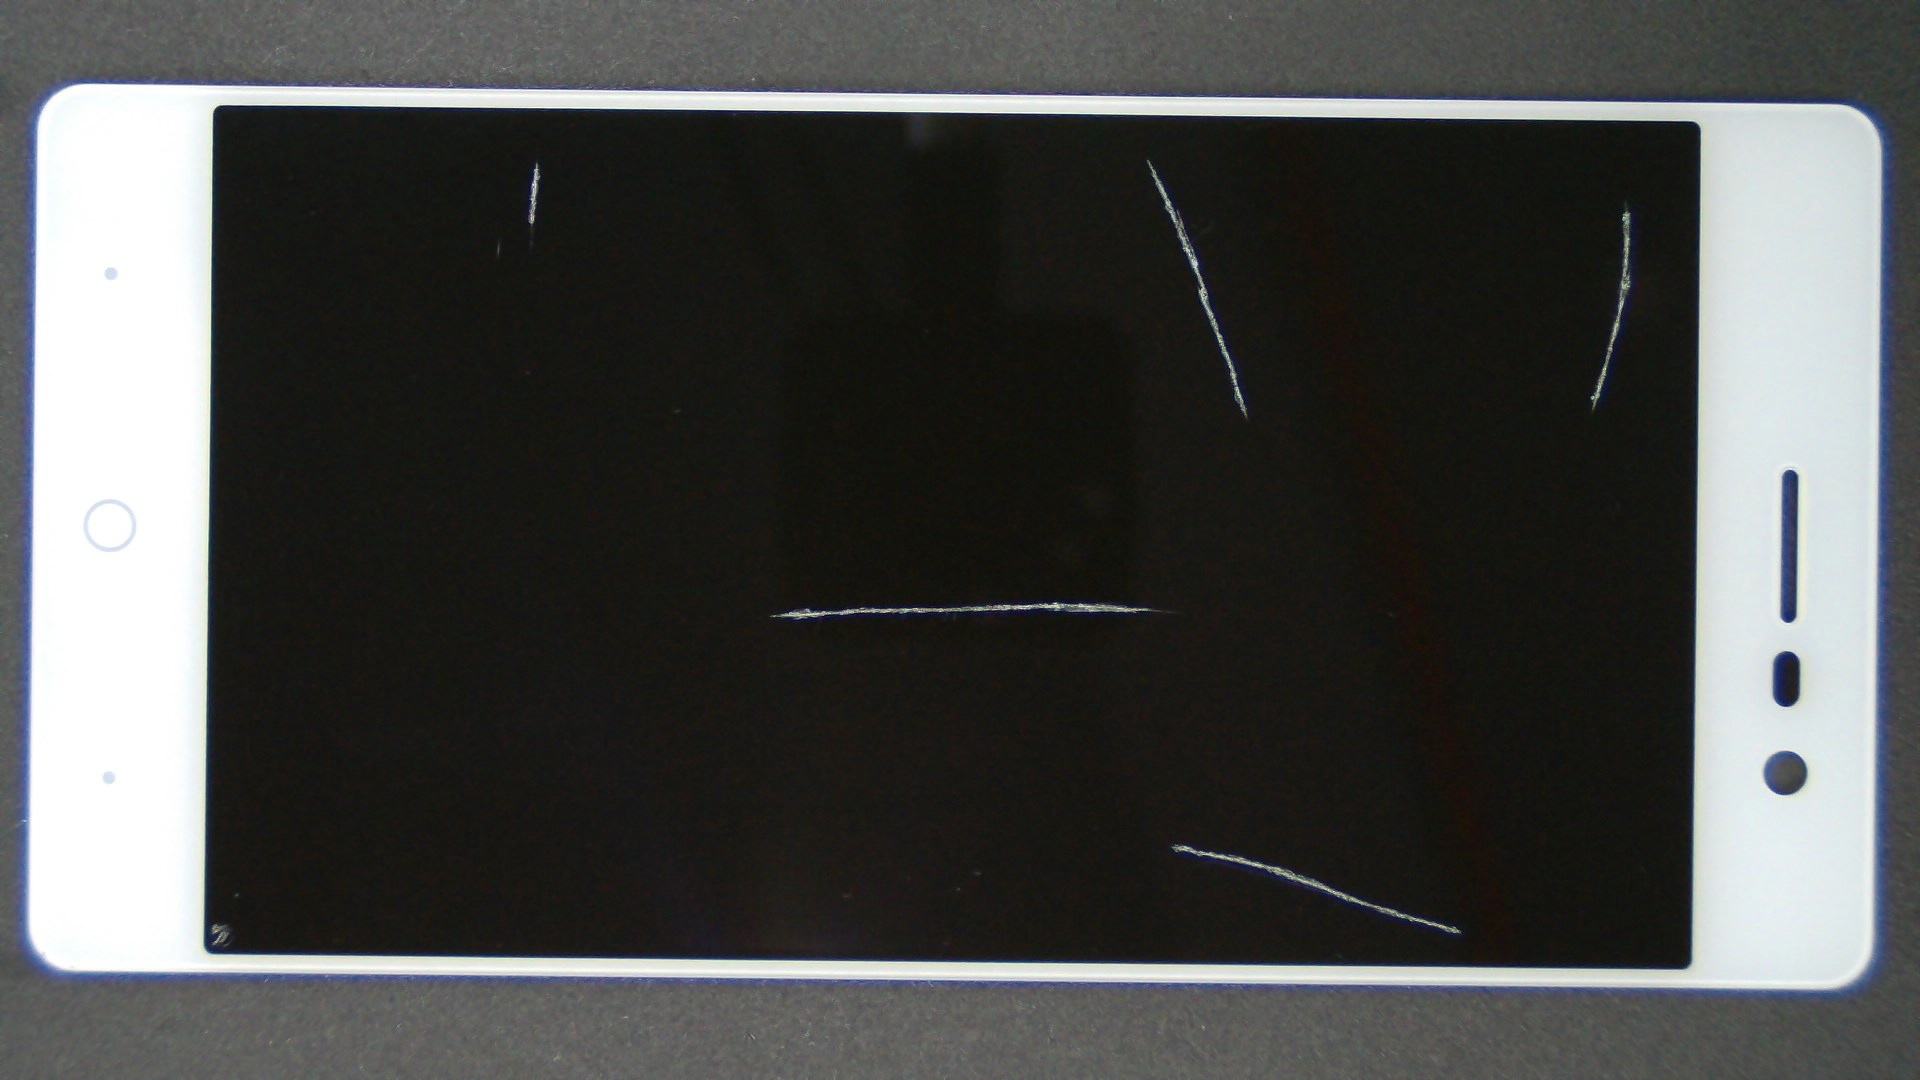oil: (589, 422, 1767, 1080), (527, 301, 1581, 903), (812, 94, 1920, 305), (574, 78, 1721, 240), (109, 459, 323, 1080), (249, 119, 746, 363), (269, 80, 803, 244)
